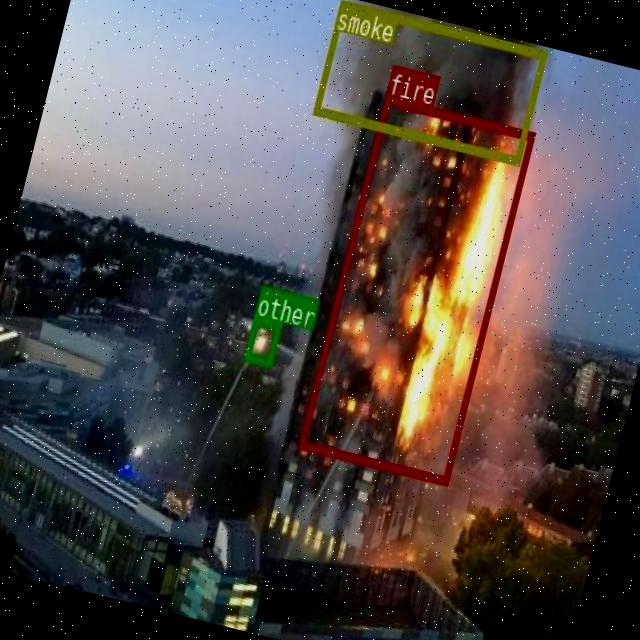fire: (298, 95, 534, 484)
smoke: (311, 0, 546, 163)
